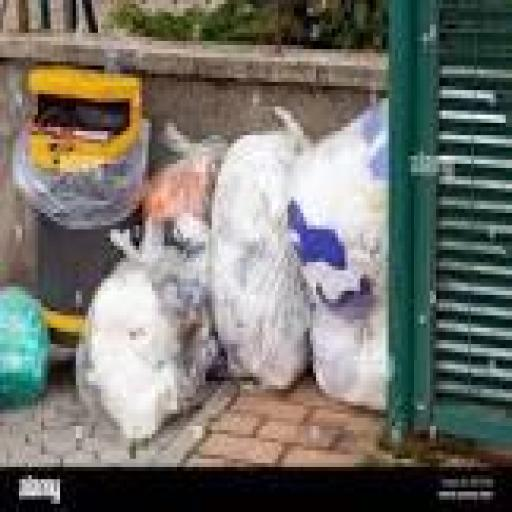poubelle_vide: (7, 48, 150, 340)
